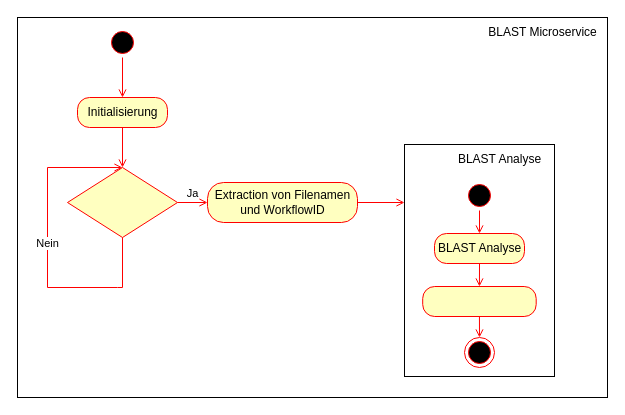
Some shapes in this 625 by 415 pixel diagram are drawn without their labels. Here are the shapes that lost their labels. From the top down, the centre of each, then its label:
point (122, 202): Kafka Message?
point (479, 301): Success Event in Kafka Topic
